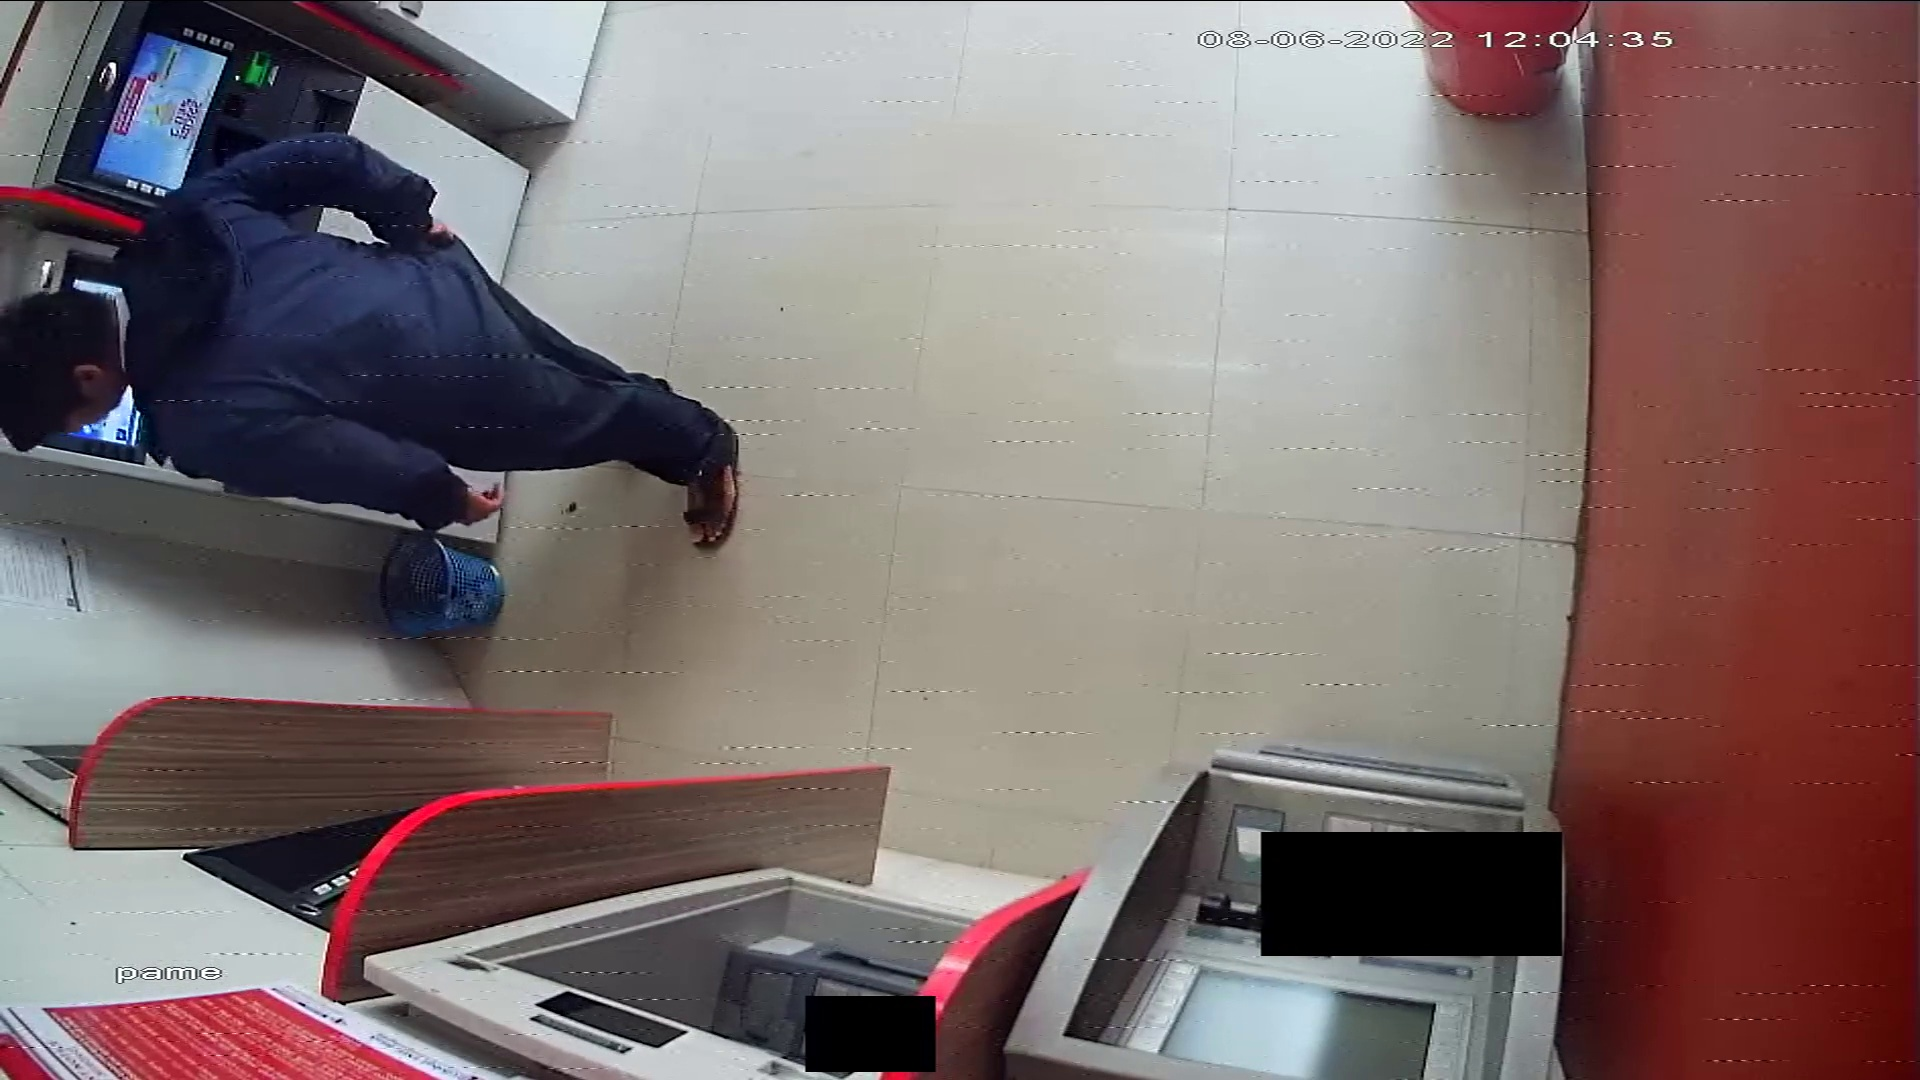person: (1, 134, 742, 553)
